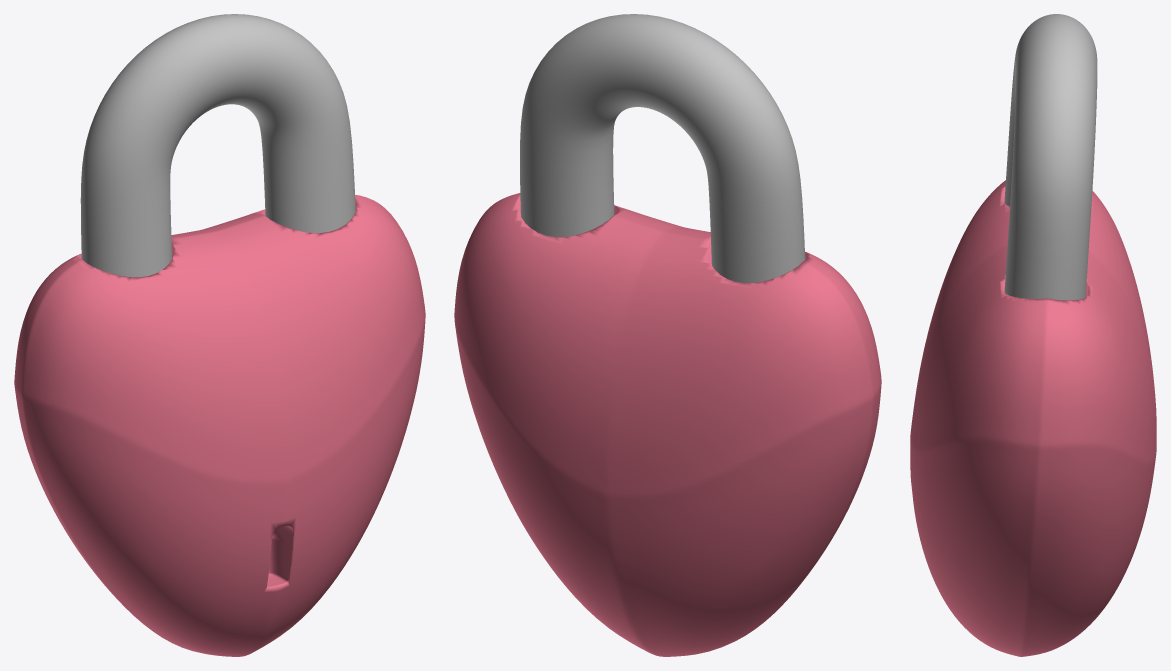
The model's file is locker.fbx.
3 views of the same model, side by side, from view 1: azimuth 30°, elevation 25°; view 2: azimuth 150°, elevation 25°; view 3: azimuth 270°, elevation 25° (orthographic). The views are drawn at different scales.
Parts seen in each view (by area): view 1: Cube.051, Cylinder.007; view 2: Cube.051, Cylinder.007; view 3: Cube.051, Cylinder.007.
Boxes of the visible parts, x1,y1,x2,y2 form: Cube.051: (14,195,425,656); Cylinder.007: (80,14,355,277); Cube.051: (454,193,881,656); Cylinder.007: (520,14,805,283); Cube.051: (910,180,1156,656); Cylinder.007: (1004,14,1097,300).
Bounding box in the file's own units: 61.36 × 92.07 × 32.98.
